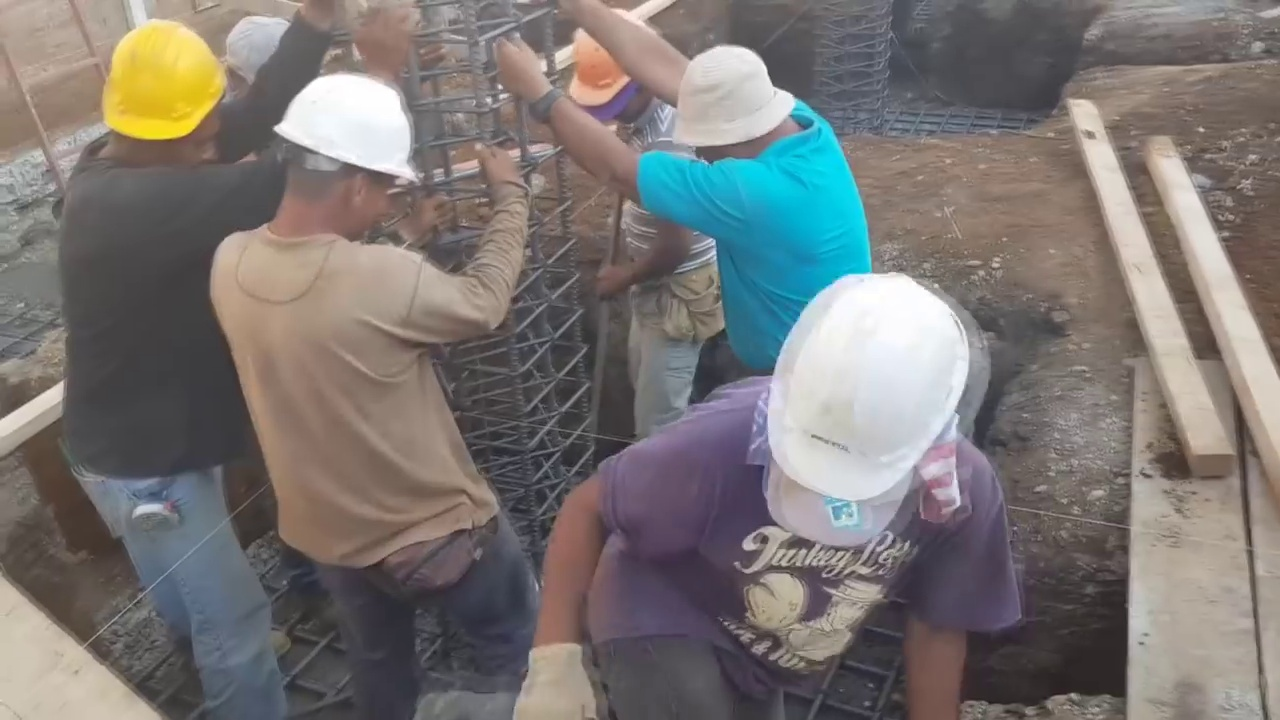helmet: (774, 284, 961, 504), (272, 64, 416, 181), (94, 20, 222, 143), (564, 12, 649, 109)
helmet-off: (670, 41, 806, 164), (221, 9, 293, 92)
helmet-on: (753, 270, 988, 540), (266, 67, 417, 240), (82, 16, 233, 179), (560, 24, 681, 128)
person: (73, 0, 399, 720), (205, 63, 544, 720), (525, 261, 997, 712), (501, 22, 871, 395), (561, 19, 726, 442)
